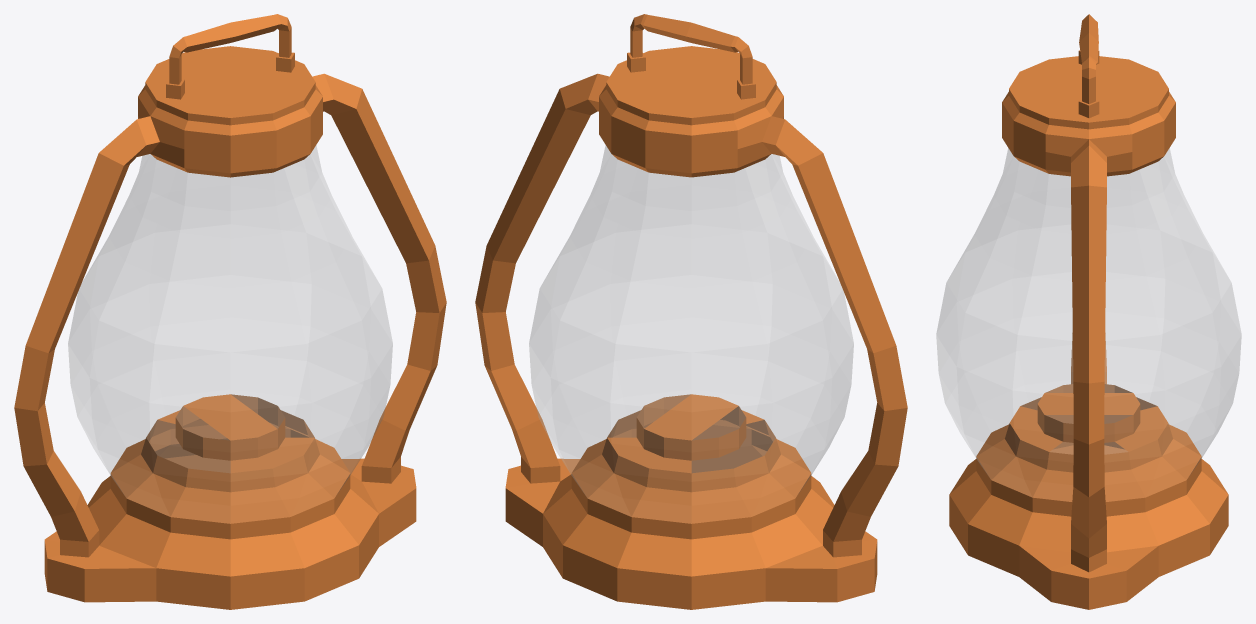
File: Lantern.fbx
The picture shows the model from 3 angles, left to right: view 1: azimuth 30°, elevation 25°; view 2: azimuth 150°, elevation 25°; view 3: azimuth 270°, elevation 25°; orthographic projection. The views are drawn at different scales.
Parts seen in each view (by area): view 1: Cylinder; view 2: Cylinder; view 3: Cylinder.
Part boxes in pixels (x1,y1,x2,y2): Cylinder: [14, 14, 446, 609]; Cylinder: [475, 14, 907, 609]; Cylinder: [936, 14, 1241, 609].
Size of the model in its own units: 813 by 942 by 529.
